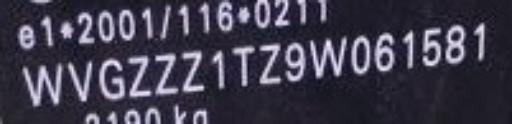letter: (20, 58, 68, 107), (308, 32, 348, 82), (176, 47, 208, 94), (125, 52, 155, 99), (97, 55, 127, 102), (254, 39, 282, 87), (69, 58, 99, 102), (374, 25, 400, 74), (443, 20, 471, 64), (280, 40, 308, 84), (152, 50, 180, 94), (232, 43, 256, 87), (349, 33, 371, 77), (209, 48, 231, 92), (420, 25, 442, 67), (400, 25, 420, 67), (472, 20, 488, 62)
